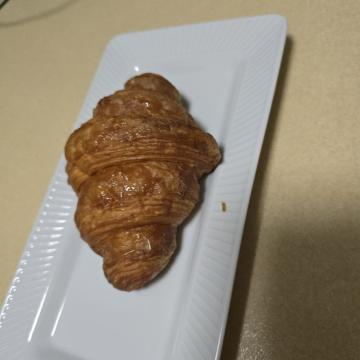croissant: (59, 129, 295, 305)
